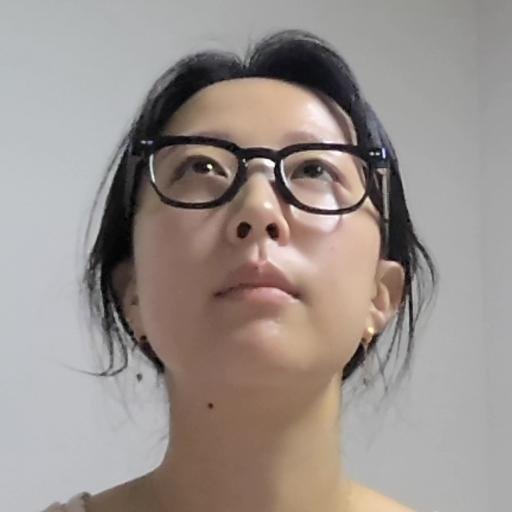no_glasses: (98, 45, 417, 407)
